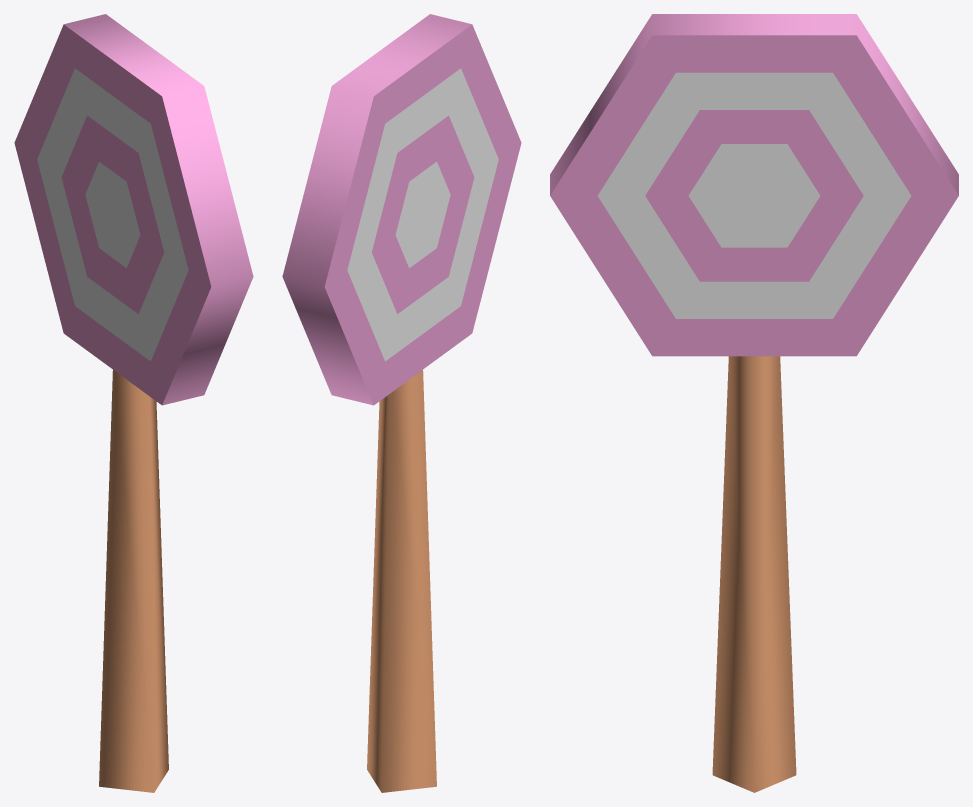
File: Lollypop.glb
The picture shows the model from 3 angles, left to right: view 1: azimuth 30°, elevation 25°; view 2: azimuth 150°, elevation 25°; view 3: azimuth 270°, elevation 25°; orthographic projection. The views are drawn at different scales.
Parts seen in each view (by area): view 1: Lollypop; view 2: Lollypop; view 3: Lollypop.
Part boxes in pixels (left/top/right/bottom): Lollypop: left=14, top=14, right=253, bottom=792; Lollypop: left=282, top=14, right=521, bottom=792; Lollypop: left=550, top=14, right=958, bottom=792.
Bounding box in the file's own units: 0.0385 × 0.3798 × 0.1875.
